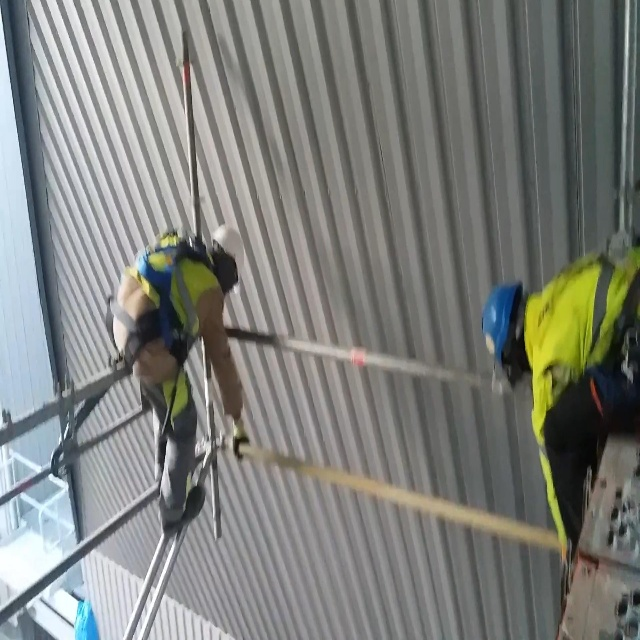Arnes_seguridad: (99, 221, 212, 386), (563, 221, 640, 386)
